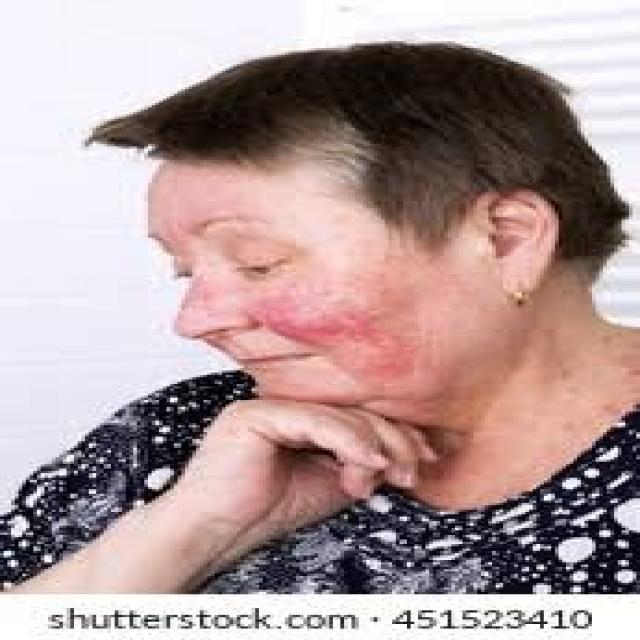Rosacea: (258, 285, 476, 375)
